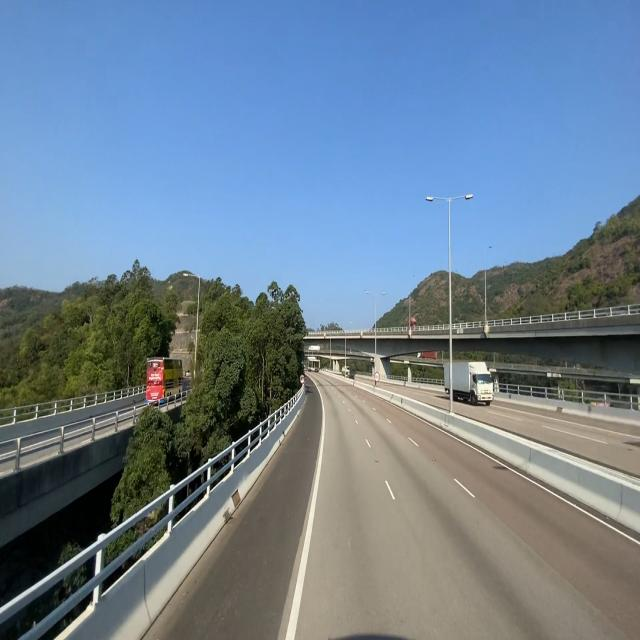Car: (444, 359, 495, 410), (147, 354, 184, 410)
